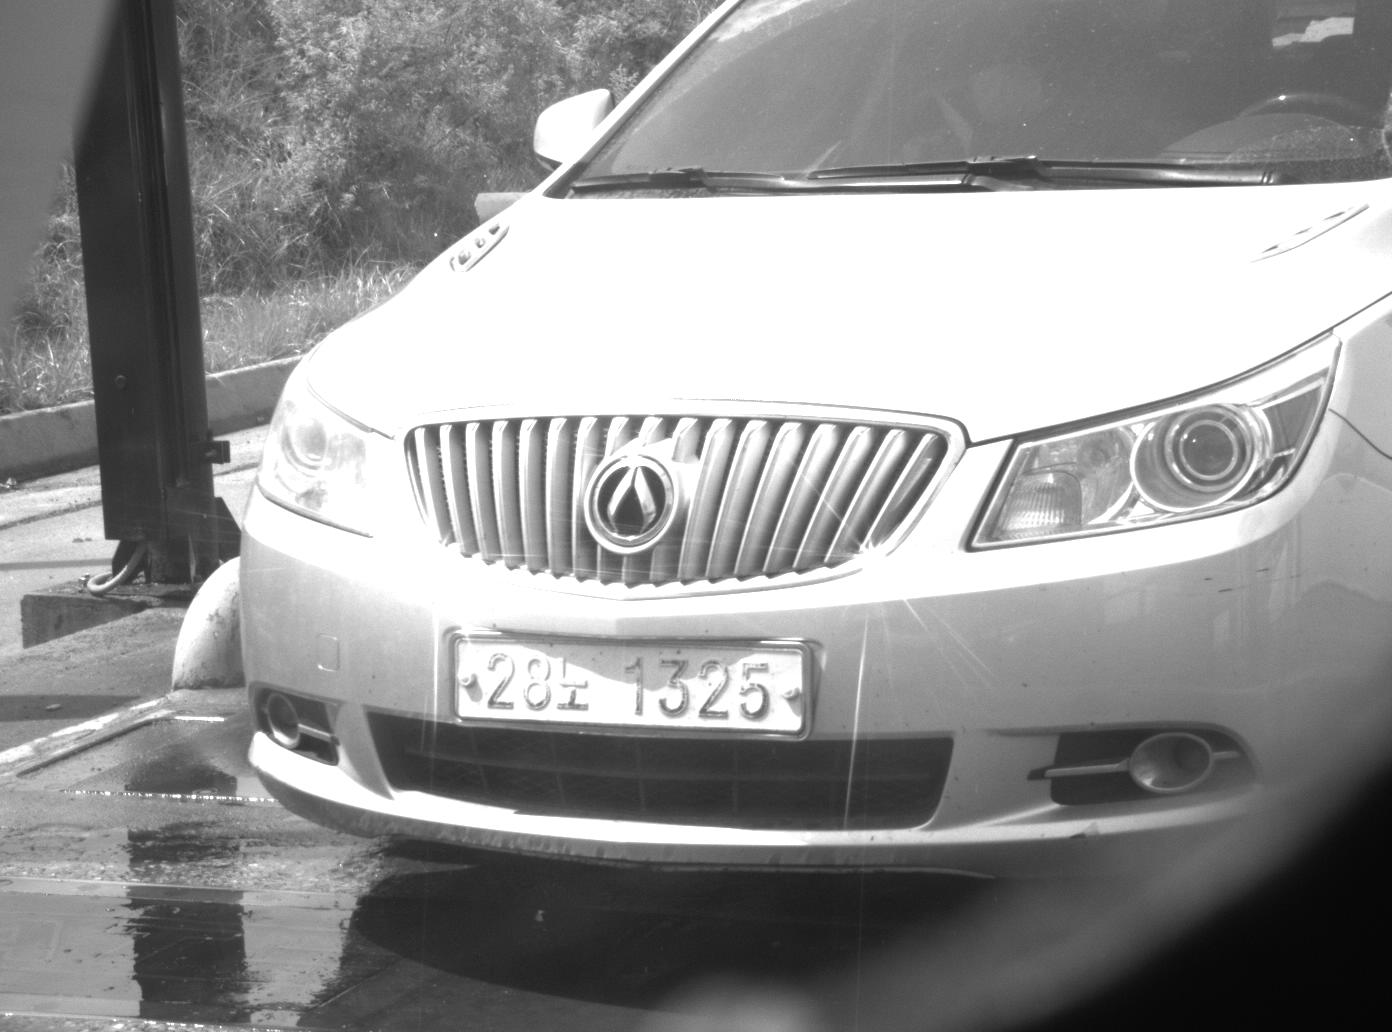car: (228, 1, 1392, 904)
plate: (445, 630, 819, 739)
